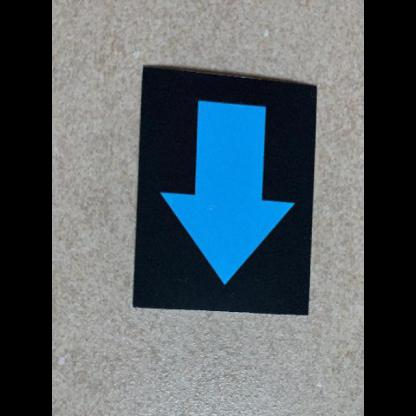down: (132, 62, 318, 321)
